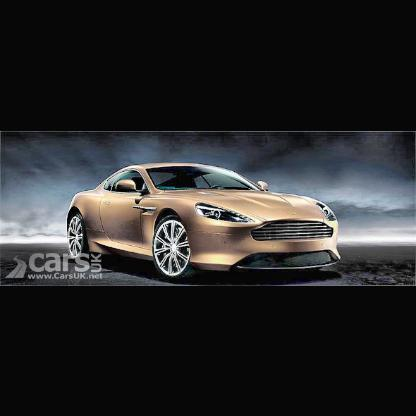Aston Martin Virage Coupe 2012: (66, 162, 344, 276)
